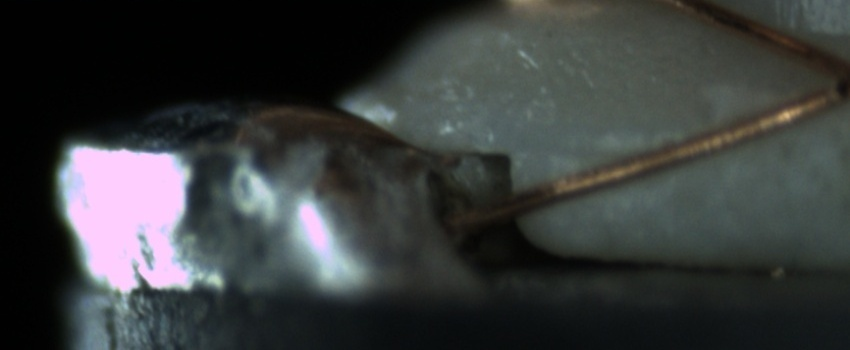CL: (801, 38, 849, 111)
DL: (534, 124, 675, 178)
